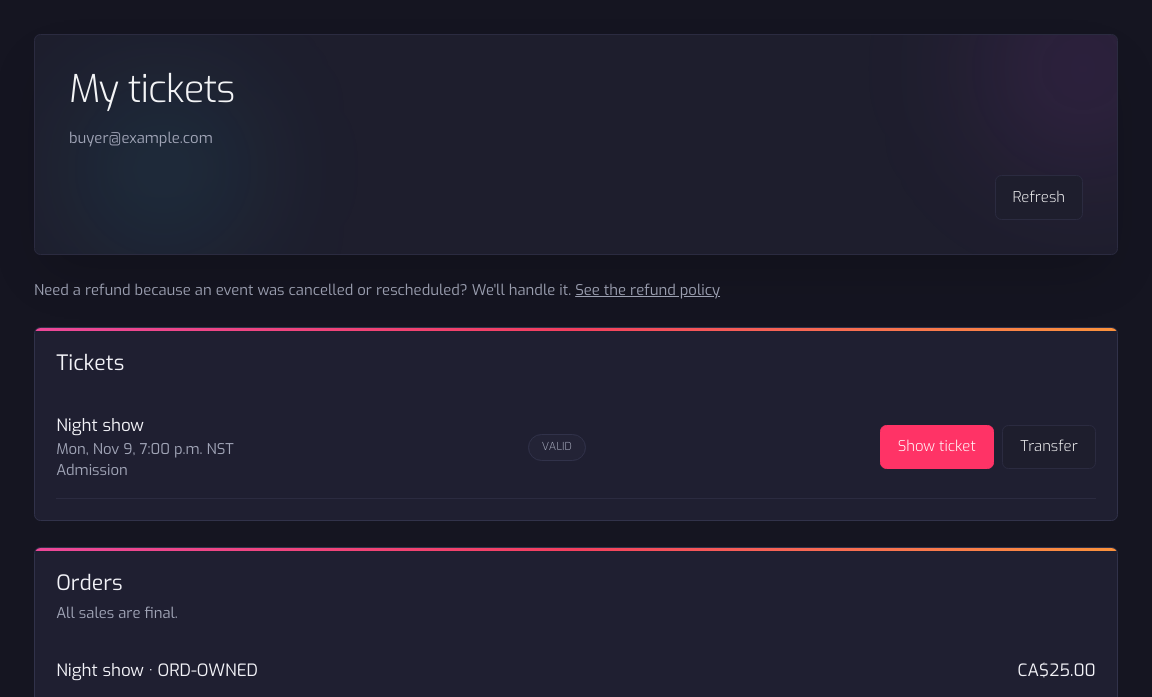
Scenario: Buyer wallet › does not show a QR or retry payment when ownership lookup is denied
Click the button "Show ticket" at {"x": 937, "y": 447}, box [880,425,994,469]
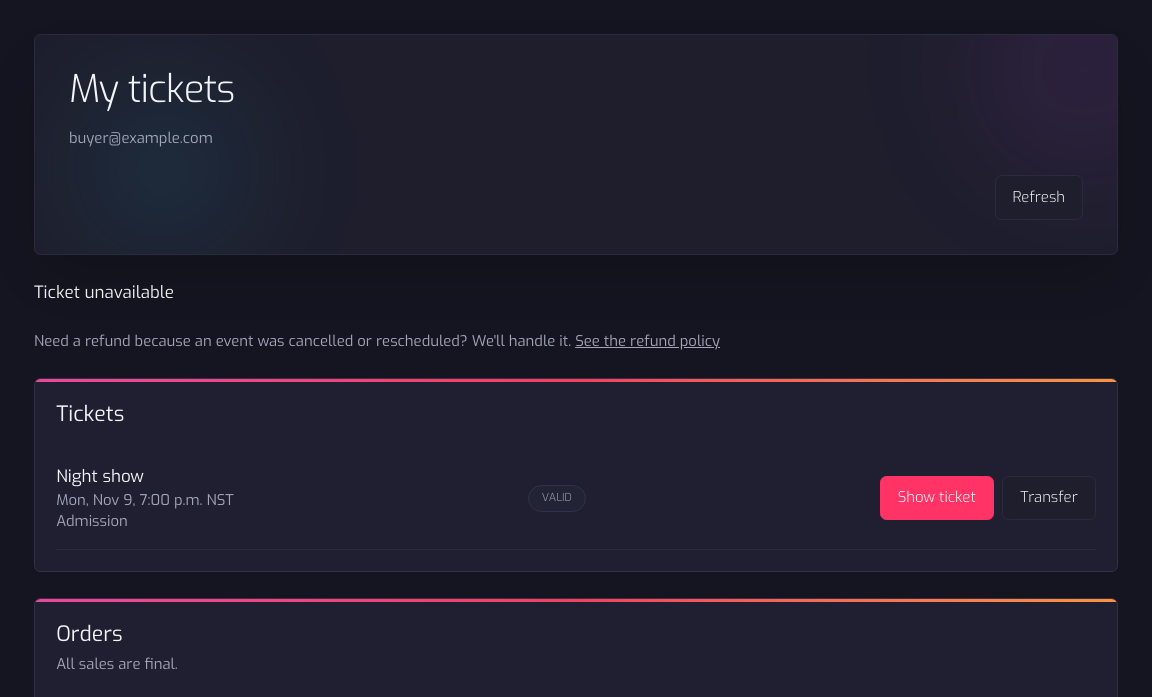
Result: the message reads "Ticket unavailable" at [34,281,174,304]
